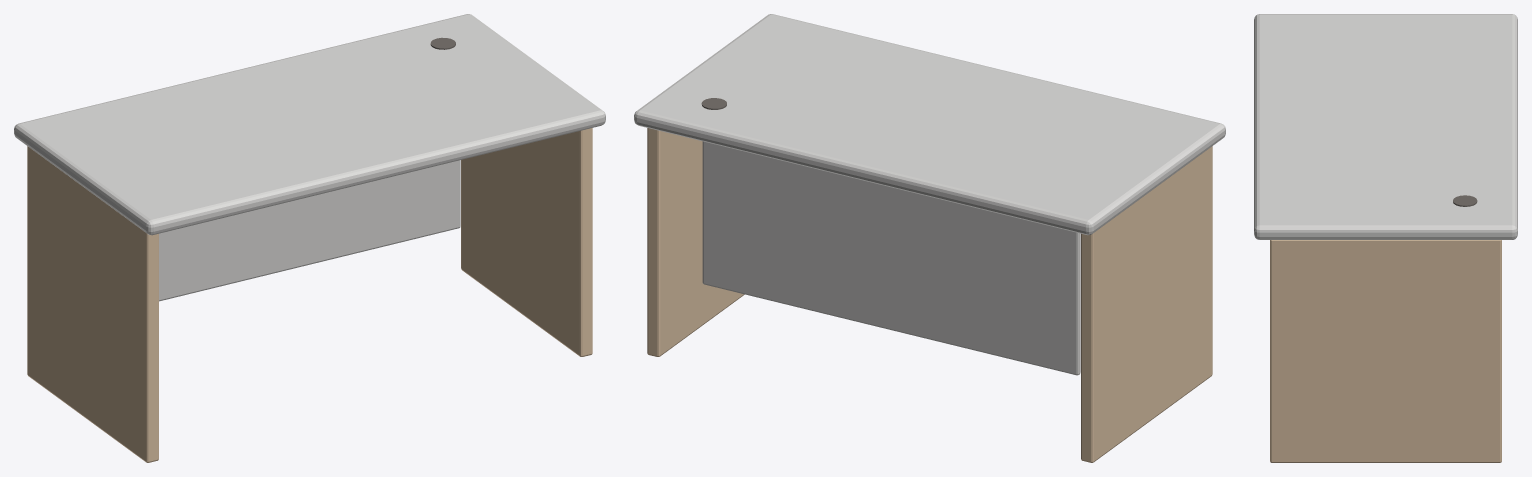
Rendered from isometric_workstation_variations_guide_32.glb.
3 views of the same model, side by side, from view 1: azimuth 30°, elevation 25°; view 2: azimuth 150°, elevation 25°; view 3: azimuth 270°, elevation 25° (orthographic). The views are drawn at different scales.
Visible parts, largest first — view 1: Cube; view 2: Cube; view 3: Cube.
Boxes of the visible parts, box(x1,y1,x2,y2) form: Cube: box(14, 14, 605, 462); Cube: box(634, 14, 1225, 462); Cube: box(1254, 14, 1517, 462).
Size of the model in its own units: 1.45 by 0.754 by 0.75.
